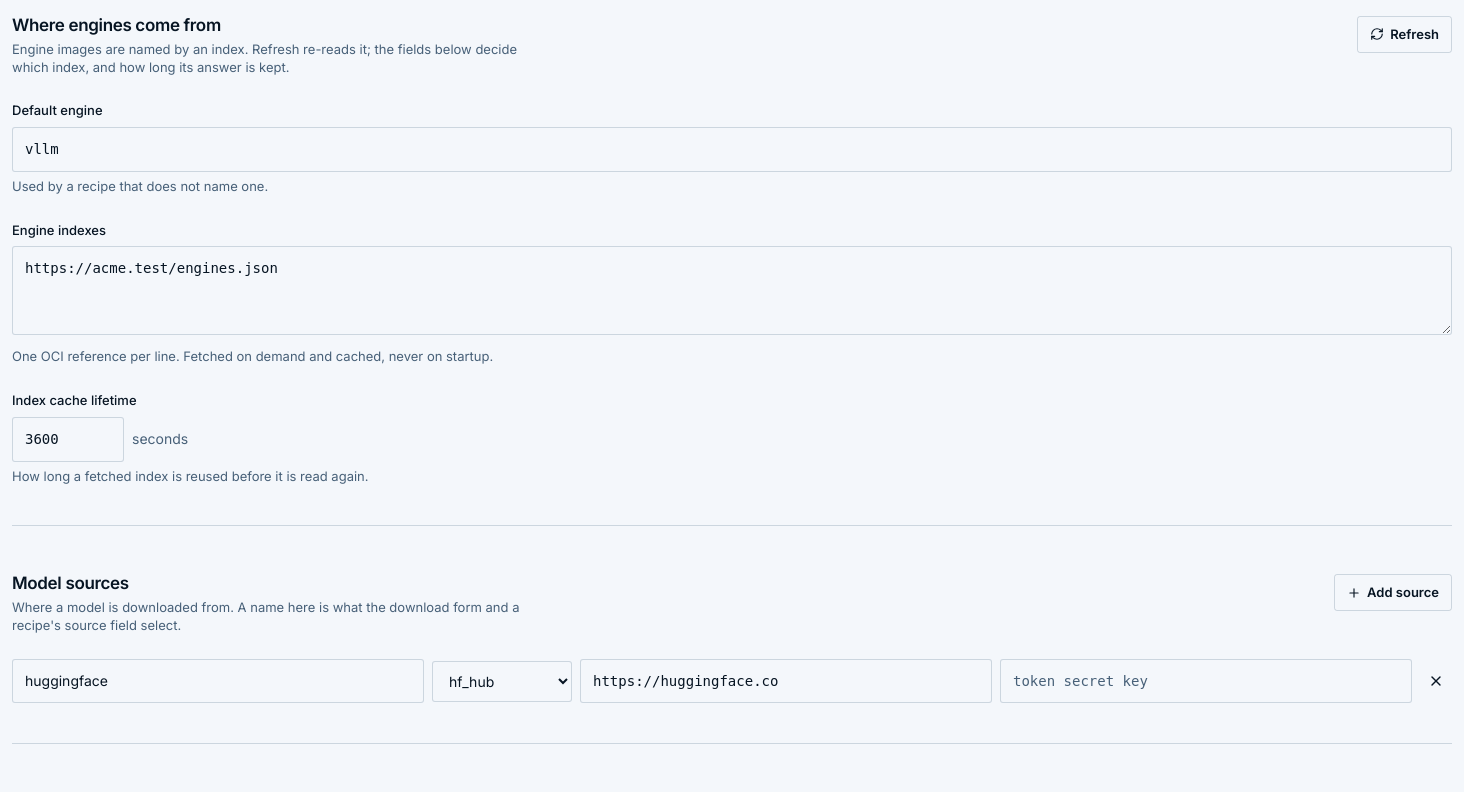
Test: SettingsLibrary engines › says why the index could not be re-read
Click the button "Refresh".
click(1405, 34)  # box [1357, 16, 1452, 53]
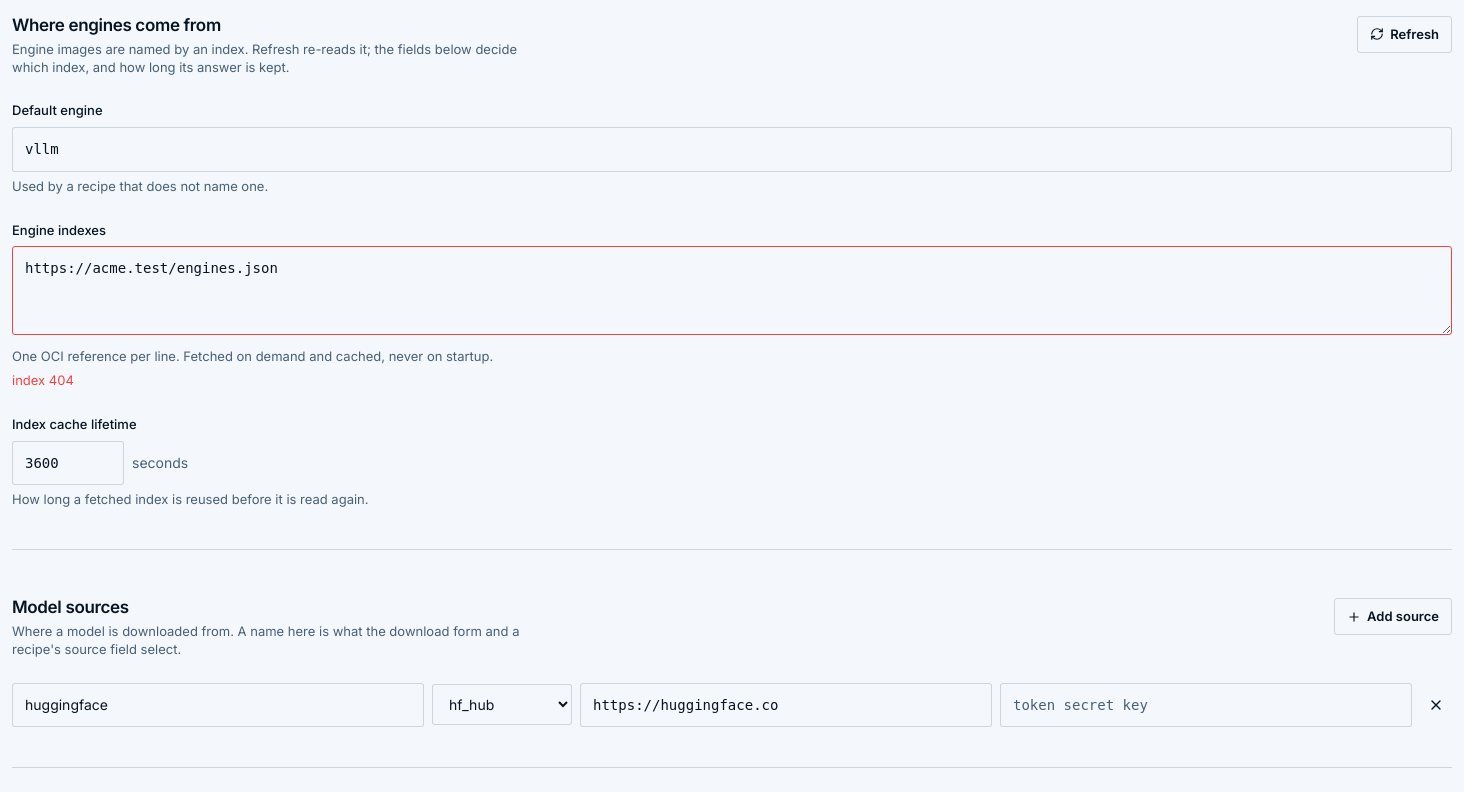
Expected: the text "index 404" is shown, [12, 372, 74, 388]
